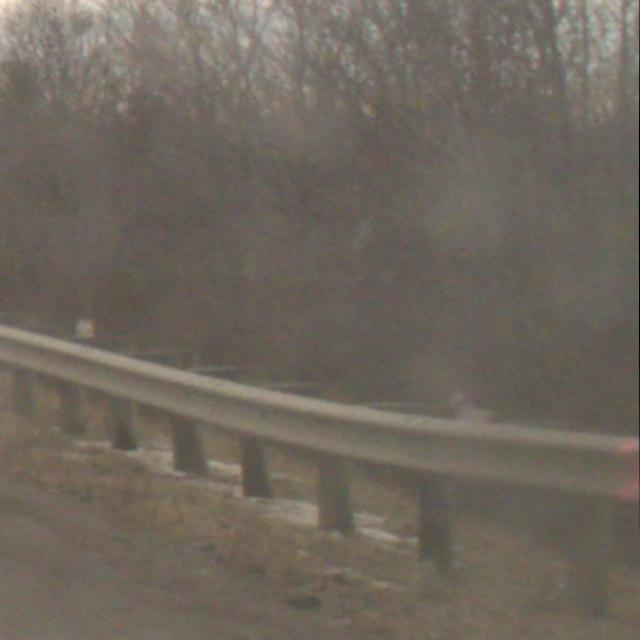Guard rail: (0, 317, 640, 626)
